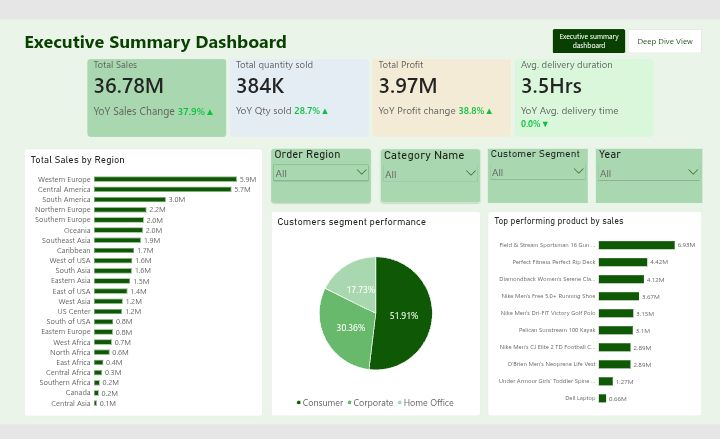

This screenshot's page, from the dashboard's own definition file:
{"tool":"powerbi","page":{"name":"Executive summary dashboard","canvas":[1920,1080],"ordinal":0},"visuals":[{"type":"cardVisual","fields":{"Data":["_Measures.Total Sales","_Measures.Total quantity sold","_Measures.Total Order","_Measures.Avg. delivery duration"]},"box":[231.8,104.7,1515.7,211.9],"z":0},{"type":"clusteredBarChart","title":"Total Sales by Region","fields":{"Category":["DimLocation.Order Region"],"Y":["_Measures.Total Sales"]},"box":[64.8,344,635.7,713],"z":1000},{"type":"clusteredBarChart","title":"Top performing product by sales","fields":{"Category":["DimProduct.Product Name"],"Y":["_Measures.Total Sales"]},"box":[1301.3,511.1,570.9,546],"z":2000},{"type":"pieChart","title":"Customers segment performance","fields":{"Category":["DimCustomer.Customer Segment"],"Y":["_Measures.Total Sales"]},"box":[723,511.1,558.4,546],"z":3000},{"type":"slicer","fields":{"Values":["DimLocation.Order Region"]},"box":[723,344,266.7,144.6],"z":4000},{"type":"slicer","fields":{"Values":["DimProduct.Category Name"]},"box":[1014.6,344,266.7,144.6],"z":5000},{"type":"slicer","fields":{"Values":["DimCustomer.Customer Segment"]},"box":[1301.3,344,266.7,144.6],"z":6000},{"type":"slicer","fields":{"Values":["Date.Year"]},"box":[1588,344,284.2,144.6],"z":7000},{"type":"textbox","box":[64.8,24.9,792.8,79.8],"z":8000},{"type":"pageNavigator","box":[1473.3,24.9,398.9,64.8],"z":9000}]}

Visuals, with their boxes on the page's 1920x1080 design canvas (x1, y1, x2, y2). These are canvas units, not pixel positions in the 720x439 screenshot, which may show the page scaled, cropped or inside an application window:
cardVisual - _Measures.Total Sales x _Measures.Total quantity sold: crop(232, 105, 1748, 317)
"Total Sales by Region" clusteredBarChart: crop(65, 344, 700, 1057)
"Top performing product by sales" clusteredBarChart: crop(1301, 511, 1872, 1057)
"Customers segment performance" pieChart: crop(723, 511, 1281, 1057)
slicer - DimLocation.Order Region: crop(723, 344, 990, 489)
slicer - DimProduct.Category Name: crop(1015, 344, 1281, 489)
slicer - DimCustomer.Customer Segment: crop(1301, 344, 1568, 489)
slicer - Date.Year: crop(1588, 344, 1872, 489)
textbox: crop(65, 25, 858, 105)
pageNavigator: crop(1473, 25, 1872, 90)
